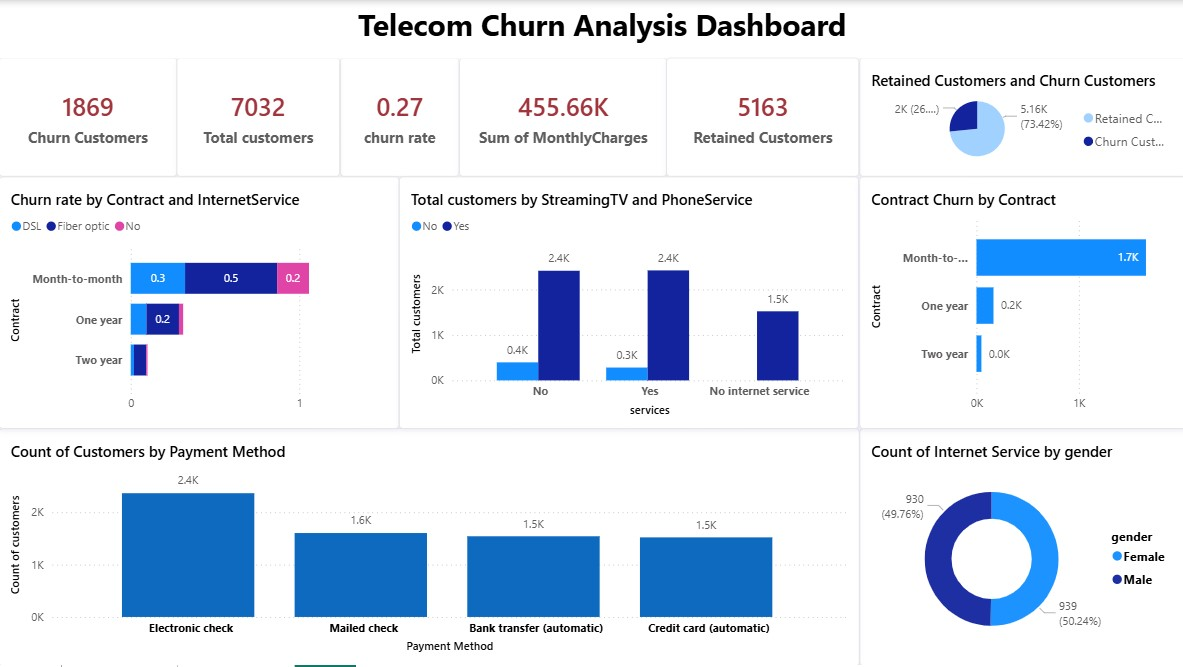

The dashboard page shown, as its layout file describes it:
{"tool":"powerbi","page":{"name":"Page 1","canvas":[1280,720],"ordinal":0},"visuals":[{"type":"card","fields":{"Values":["telecom_churn_analysis.Churn Customers"]},"box":[0,64,192,128],"z":0},{"type":"card","fields":{"Values":["telecom_churn_analysis.churn rate"]},"box":[368,64,128,128],"z":1000},{"type":"card","fields":{"Values":["Sum(telecom_churn_analysis.MonthlyCharges)"]},"box":[496,64,224,128],"z":2000},{"type":"donutChart","title":"Count of Internet Service by gender","fields":{"Category":["telecom_churn_analysis.gender"],"Y":["telecom_churn_analysis.Churn Customers"]},"box":[928,464,352,256],"z":3000},{"type":"card","fields":{"Values":["telecom_churn_analysis.Total customers"]},"box":[192,64,176,128],"z":4000},{"type":"pieChart","fields":{"Y":["telecom_churn_analysis.Retained Rate %","telecom_churn_analysis.Churn Customers"]},"box":[928,64,352,128],"z":5000},{"type":"columnChart","title":"Count of Customers by Payment Method","fields":{"Category":["telecom_churn_analysis.PaymentMethod"],"Y":["CountNonNull(telecom_churn_analysis.PaymentMethod)"]},"box":[0,464,928,256],"z":6000},{"type":"actionButton","box":[0,0,100,40],"z":7000},{"type":"barChart","title":"Churn rate by Contract and InternetService","fields":{"Y":["telecom_churn_analysis.churn rate"],"Series":["telecom_churn_analysis.InternetService"],"Category":["telecom_churn_analysis.Contract"]},"box":[0,192,432,272],"z":8000},{"type":"textbox","box":[0,0,1280,64],"z":10000},{"type":"card","fields":{"Values":["telecom_churn_analysis.Retained Customers"]},"box":[720,64,208,128],"z":11000},{"type":"clusteredColumnChart","fields":{"Category":["telecom_churn_analysis.StreamingTV"],"Y":["telecom_churn_analysis.Total customers"],"Series":["telecom_churn_analysis.PhoneService"]},"box":[432,192,496,272],"z":12000},{"type":"clusteredBarChart","title":"Contract Churn by Contract","fields":{"Category":["telecom_churn_analysis.Contract"],"Y":["telecom_churn_analysis.contract churn"]},"box":[928,192,352,272],"z":12001}]}

Visuals, with their boxes in screenshot pixels (x1, y1, x2, y2), scaled from the page's 1280x720 canvas onto the 1183x667 screenshot:
card - telecom_churn_analysis.Churn Customers: box=[0, 59, 177, 178]
card - telecom_churn_analysis.churn rate: box=[340, 59, 458, 178]
card - Sum(telecom_churn_analysis.MonthlyCharges): box=[458, 59, 665, 178]
"Count of Internet Service by gender" donutChart: box=[858, 430, 1182, 666]
card - telecom_churn_analysis.Total customers: box=[177, 59, 340, 178]
pieChart - telecom_churn_analysis.Retained Rate % x telecom_churn_analysis.Churn Customers: box=[858, 59, 1182, 178]
"Count of Customers by Payment Method" columnChart: box=[0, 430, 858, 666]
actionButton: box=[0, 0, 92, 37]
"Churn rate by Contract and InternetService" barChart: box=[0, 178, 399, 430]
textbox: box=[0, 0, 1182, 59]
card - telecom_churn_analysis.Retained Customers: box=[665, 59, 858, 178]
clusteredColumnChart - telecom_churn_analysis.StreamingTV x telecom_churn_analysis.Total customers: box=[399, 178, 858, 430]
"Contract Churn by Contract" clusteredBarChart: box=[858, 178, 1182, 430]
